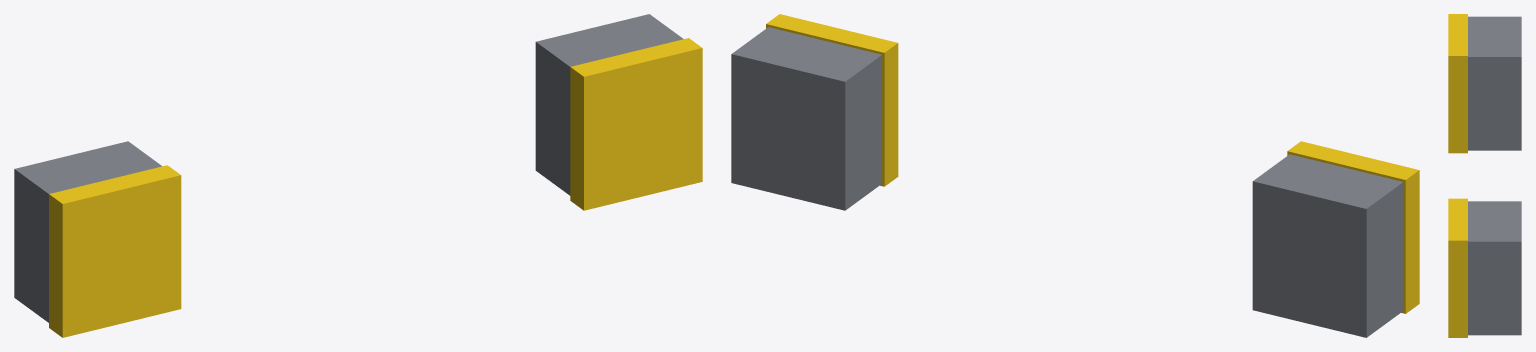
Rendered from shoulders-scout.glb.
3 renders of one model, left to right at view 1: azimuth 30°, elevation 25°; view 2: azimuth 150°, elevation 25°; view 3: azimuth 270°, elevation 25°, orthographic. The views are drawn at different scales.
Parts seen in each view (by area): view 1: trim_-1, trim_1, guard_1, guard_-1; view 2: guard_-1, guard_1, trim_1, trim_-1; view 3: guard_-1, guard_1, trim_-1, trim_1.
Boxes of the visible parts, x1,y1,x2,y2 form: trim_-1: (49, 165, 181, 337); trim_1: (570, 38, 702, 210); guard_1: (535, 14, 683, 195); guard_-1: (14, 141, 161, 322); guard_-1: (1252, 154, 1403, 337); guard_1: (731, 27, 881, 210); trim_1: (766, 14, 898, 186); trim_-1: (1287, 141, 1419, 313); guard_-1: (1468, 16, 1521, 150); guard_1: (1468, 201, 1521, 335); trim_-1: (1448, 14, 1467, 153); trim_1: (1448, 198, 1467, 337).
Size of the model in its own units: 1.35 by 0.27 by 0.185.
